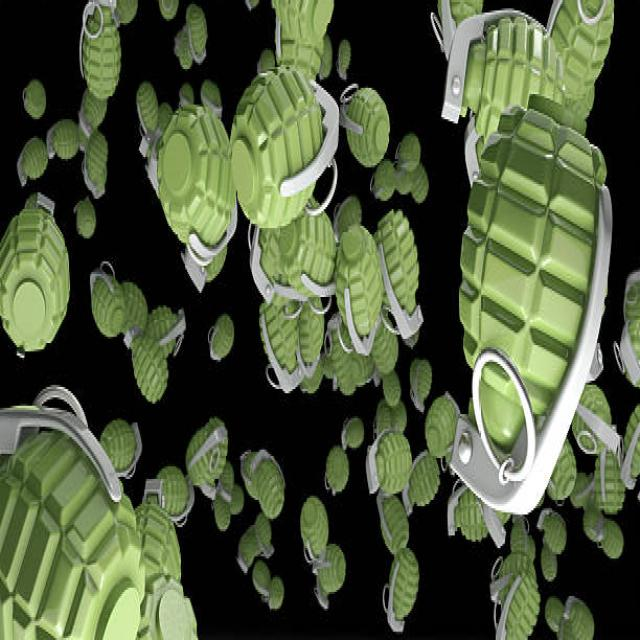grenade: (447, 98, 616, 517), (230, 63, 344, 230), (159, 105, 240, 270), (79, 1, 125, 102), (367, 425, 417, 498), (381, 552, 424, 633)
